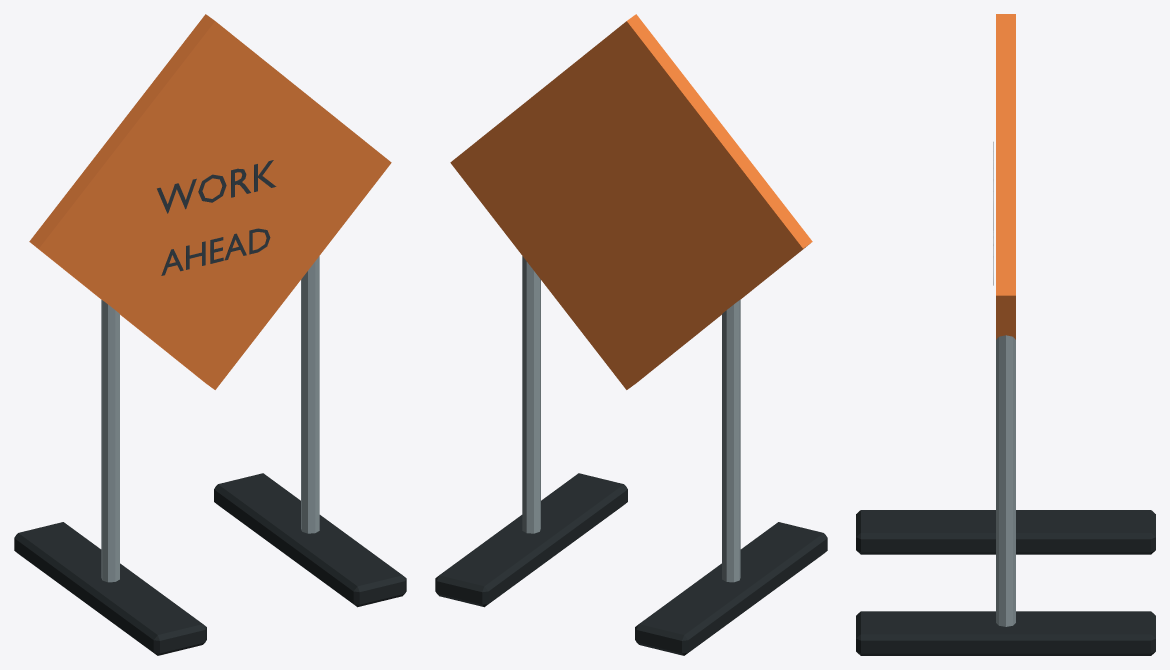
The model's file is Warning_Sign_Portable.glb.
3 views of the same model, side by side, from view 1: azimuth 30°, elevation 25°; view 2: azimuth 150°, elevation 25°; view 3: azimuth 270°, elevation 25° (orthographic). The views are drawn at different scales.
Visible parts, largest first — view 1: Warning_Sign_Portable; view 2: Warning_Sign_Portable; view 3: Warning_Sign_Portable.
Boxes of the visible parts, x1,y1,x2,y2 form: Warning_Sign_Portable: (14, 14, 406, 655); Warning_Sign_Portable: (435, 14, 827, 655); Warning_Sign_Portable: (856, 14, 1155, 655).
Size of the model in its own units: 1.06 by 1.6 by 0.75.
